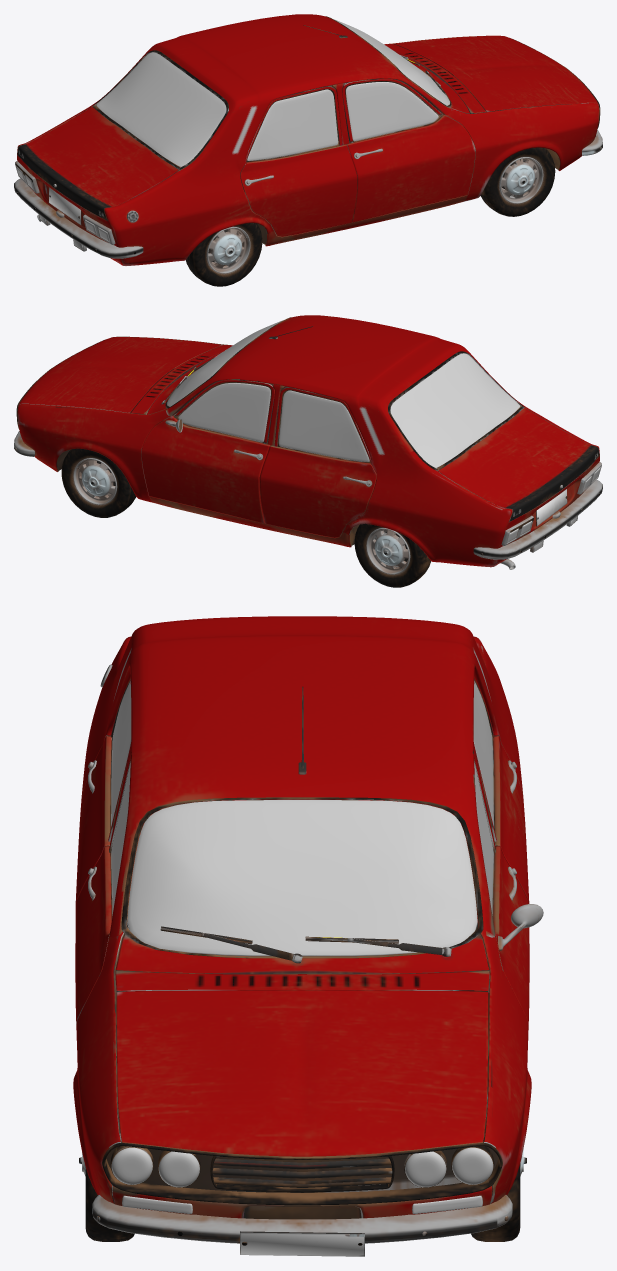
The model's file is car.obj.
3 renders of one model, top to bottom at view 1: azimuth 30°, elevation 25°; view 2: azimuth 150°, elevation 25°; view 3: azimuth 270°, elevation 25°, orthographic. The views are drawn at different scales.
Parts seen in each view (by area): view 1: Body, DFR, DRR, Trunk, Hood, Wheel_FR, Wheel_RR; view 2: Body, DFL, DRL, Trunk, Hood, Wheel_FL, Wheel_RL; view 3: Body, Hood, DFL, DFR, DRL, DRR, Wheel_FL, Wheel_FR.
Boxes of the visible parts, box(x1,y1,x2,y2) form: Body: box(14, 14, 602, 265); DFR: box(342, 78, 475, 222); DRR: box(240, 86, 357, 236); Trunk: box(17, 107, 179, 220); Hood: box(394, 36, 597, 111); Wheel_FR: box(480, 147, 555, 216); Wheel_RR: box(186, 223, 262, 286); Body: box(14, 315, 602, 569); DFL: box(141, 379, 274, 523); DRL: box(259, 387, 376, 537); Trunk: box(437, 408, 599, 521); Hood: box(19, 337, 222, 413); Wheel_FL: box(61, 448, 135, 517); Wheel_RL: box(354, 524, 431, 587); Body: box(73, 616, 531, 1256); Hood: box(116, 990, 488, 1156); DFL: box(474, 755, 543, 1024); DFR: box(75, 755, 130, 1024); DRL: box(473, 676, 529, 902); DRR: box(75, 676, 131, 902); Wheel_FL: box(471, 1149, 526, 1241); Wheel_FR: box(79, 1152, 134, 1241).
Bounding box in the file's own units: 321 × 114 × 125.
9 materials, 8 textured.
